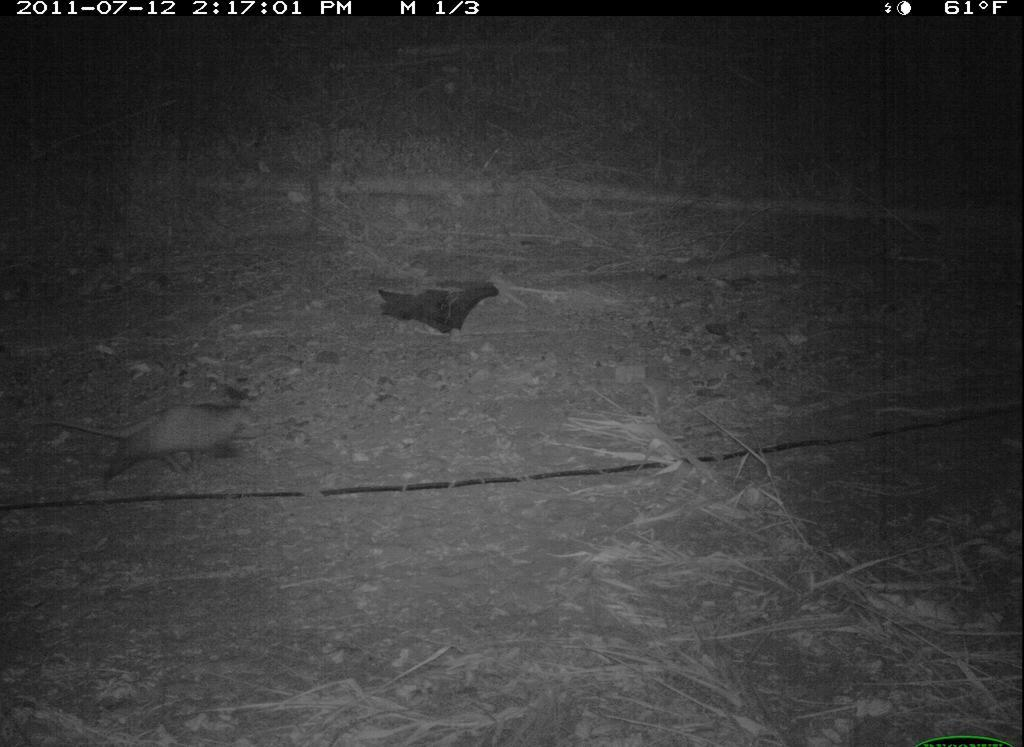opossum: (61, 385, 289, 474)
